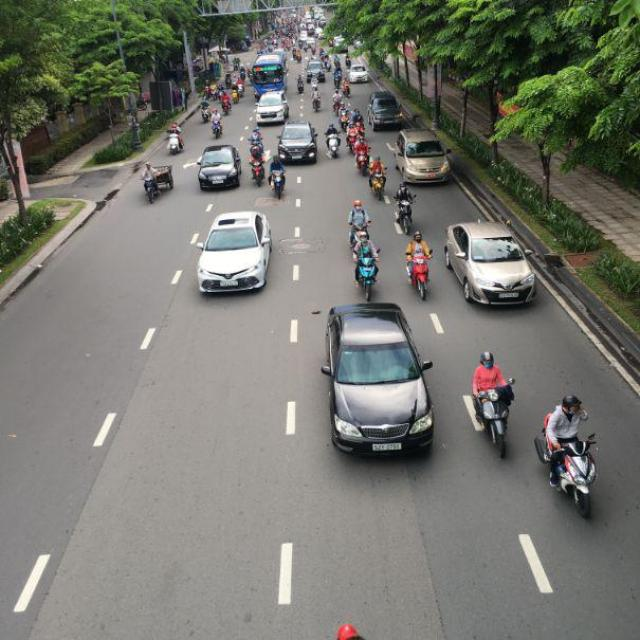bus: (250, 51, 286, 98)
car: (321, 301, 437, 456), (443, 222, 540, 308), (195, 211, 274, 297), (394, 130, 454, 185), (196, 145, 243, 192), (276, 121, 319, 165), (369, 92, 402, 128), (256, 93, 288, 124), (350, 64, 370, 82)
motorcycle: (550, 434, 600, 517), (471, 386, 513, 458), (407, 253, 434, 302), (394, 196, 416, 236), (142, 176, 157, 204)
